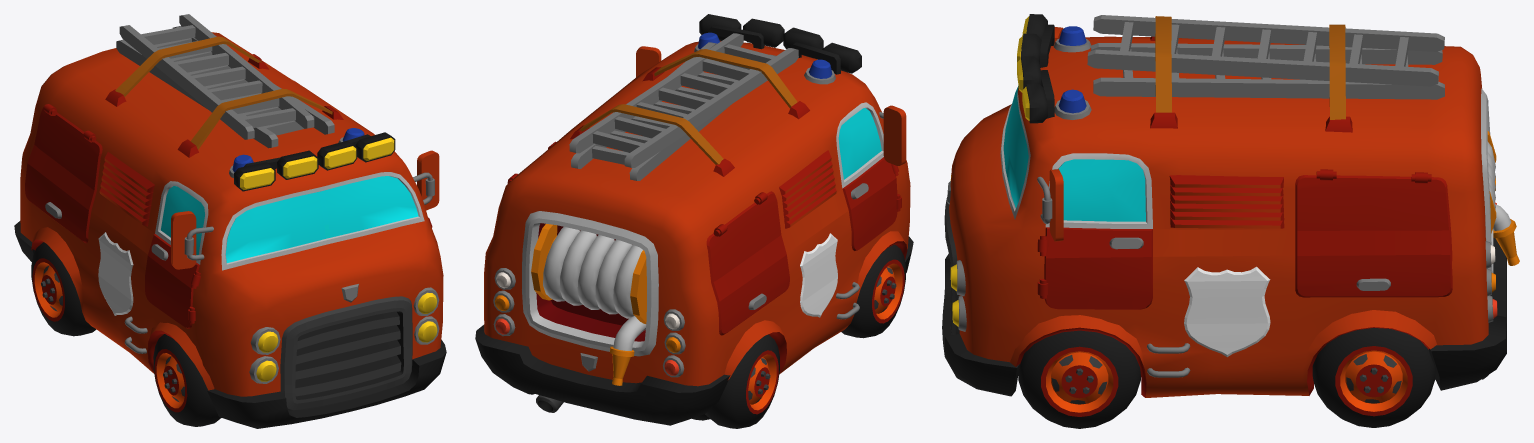
The model's file is VEH24-A.fbx.
3 renders of one model, left to right at view 1: azimuth 30°, elevation 25°; view 2: azimuth 150°, elevation 25°; view 3: azimuth 270°, elevation 25°, orthographic. The views are drawn at different scales.
Visible parts, largest first — view 1: VEH24_A, VEH24A_BodyParts, VEH24A_Wheel_FR, VEH24A_Wheel_BR; view 2: VEH24_A, VEH24A_BodyParts, VEH24A_Wheel_BR, VEH24A_Wheel_FR; view 3: VEH24_A, VEH24A_BodyParts, VEH24A_Wheel_BL, VEH24A_Wheel_FL.
Boxes of the visible parts, x1=… form: VEH24_A: x1=20, y1=32, x2=446, y2=428; VEH24A_BodyParts: x1=14, y1=14, x2=334, y2=261; VEH24A_Wheel_FR: x1=153, y1=334, x2=221, y2=426; VEH24A_Wheel_BR: x1=31, y1=242, x2=96, y2=336; VEH24_A: x1=484, y1=14, x2=913, y2=386; VEH24A_BodyParts: x1=475, y1=33, x2=798, y2=425; VEH24A_Wheel_BR: x1=692, y1=334, x2=779, y2=428; VEH24A_Wheel_FR: x1=841, y1=244, x2=905, y2=338; VEH24_A: x1=942, y1=14, x2=1497, y2=397; VEH24A_BodyParts: x1=1087, y1=15, x2=1519, y2=390; VEH24A_Wheel_BL: x1=1312, y1=328, x2=1435, y2=427; VEH24A_Wheel_FL: x1=1018, y1=330, x2=1140, y2=428.
Size of the model in its own units: 265 by 262 by 419.
1 material, 1 textured.
